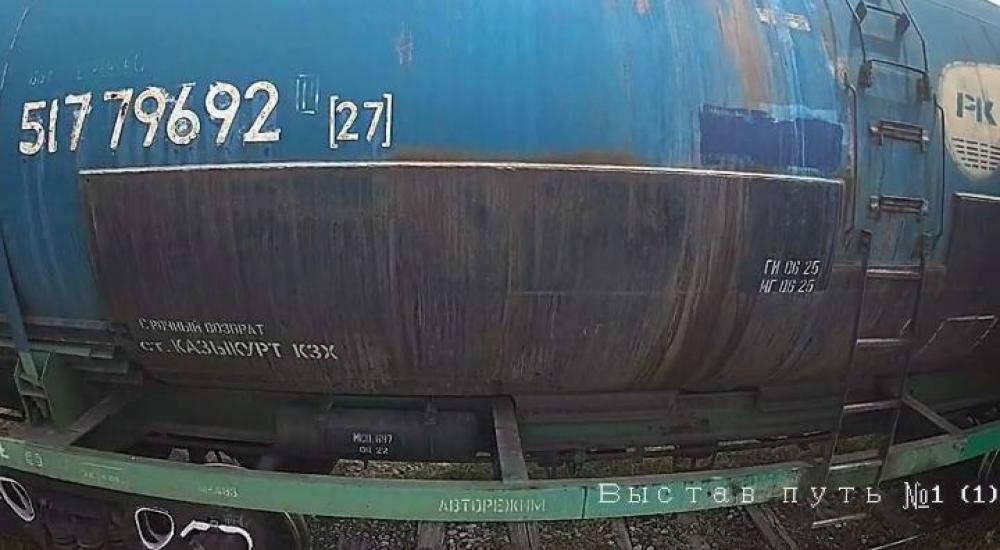Wagon-number: (11, 78, 289, 162)
